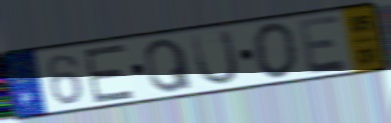6: (44, 52, 86, 106)
E: (81, 41, 137, 105), (296, 12, 351, 76)
O: (251, 20, 301, 81)
Q: (142, 36, 195, 95)
U: (189, 27, 242, 88)
